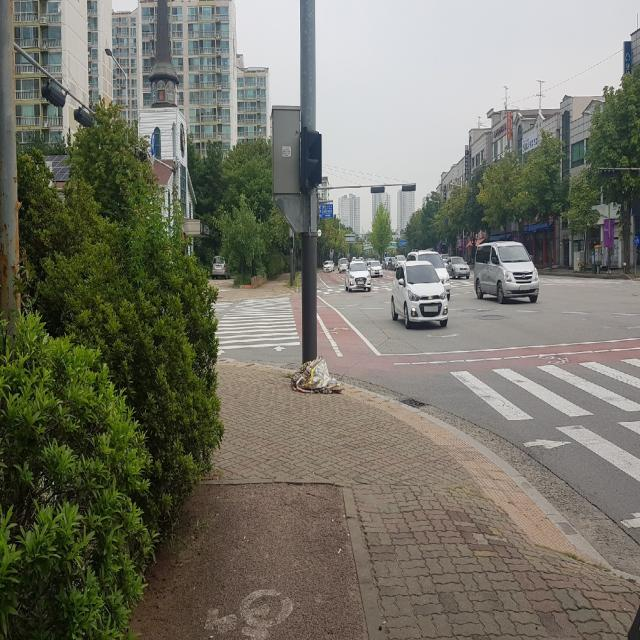횡단보도: (430, 368, 640, 519), (209, 296, 301, 357)
